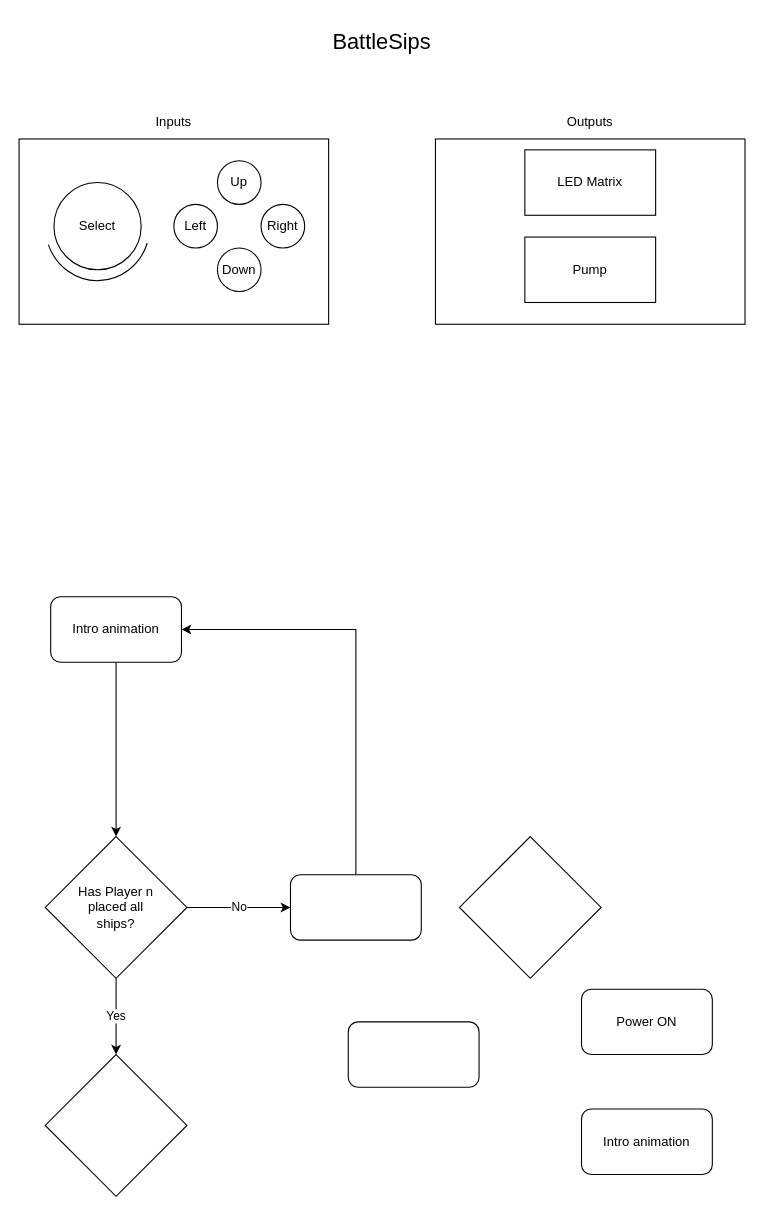
Image size: 764x1215. Some labels were removed from this diagram. Here are the shapes that lost their labels. From the top down, the box of each, then its label:
(44, 171, 150, 281): Encoder
(289, 874, 421, 940): Place ship n
(458, 835, 601, 978): Has ship 1 been placed
(44, 1053, 187, 1196): Has Player 2 placed all ships?
